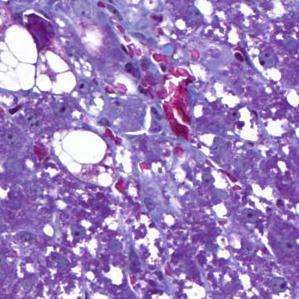ballooning: (3, 20, 80, 100), (50, 125, 112, 182)
